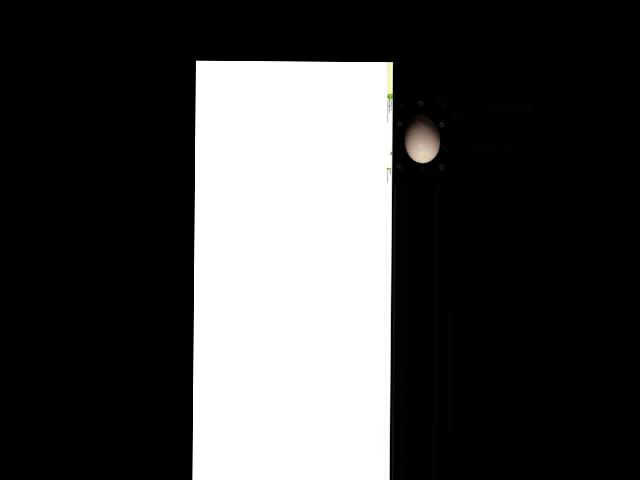egg: (403, 114, 440, 164)
